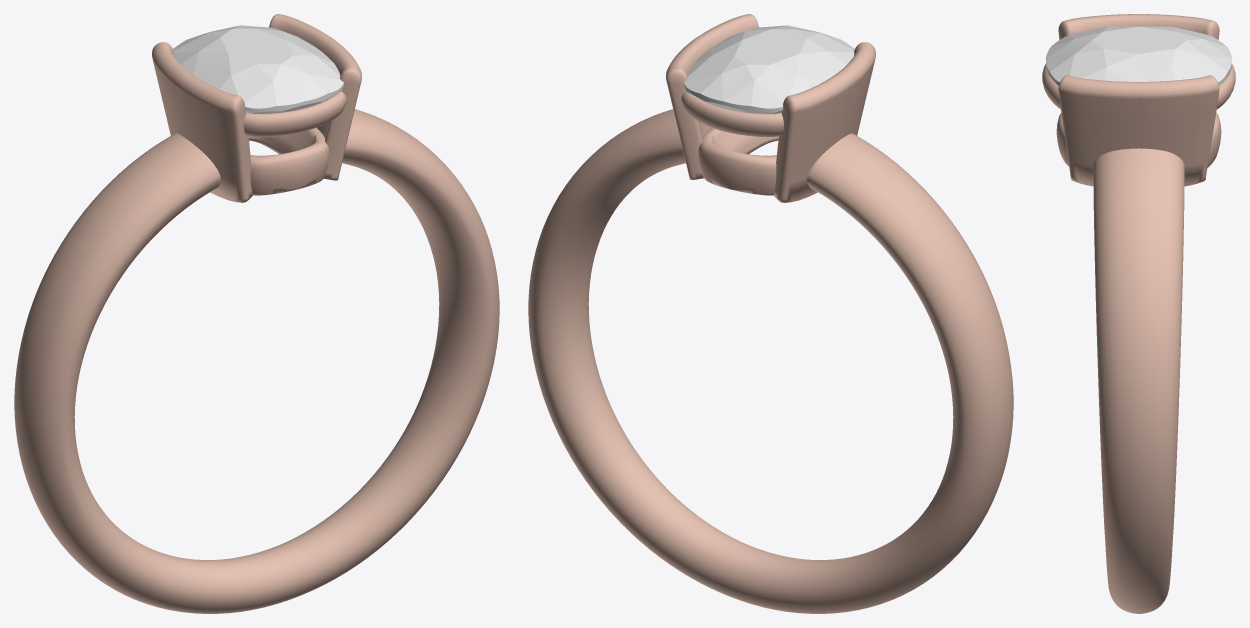
File: diamond-cushion-rosegold-halfmoonbezel-taperedband-nosidestones.glb
The picture shows the model from 3 angles, left to right: view 1: azimuth 30°, elevation 25°; view 2: azimuth 150°, elevation 25°; view 3: azimuth 270°, elevation 25°; orthographic projection.
Parts seen in each view (by area): view 1: metal.003, stone; view 2: metal.003, stone; view 3: metal.003, stone.
Boxes of the visible parts, x1,y1,x2,y2 form: metal.003: [14, 14, 499, 613]; stone: [173, 25, 343, 114]; metal.003: [528, 14, 1013, 613]; stone: [684, 25, 854, 114]; metal.003: [1042, 14, 1235, 613]; stone: [1046, 26, 1231, 85].
Size of the model in its own units: 20.5 by 23.24 by 7.42.
